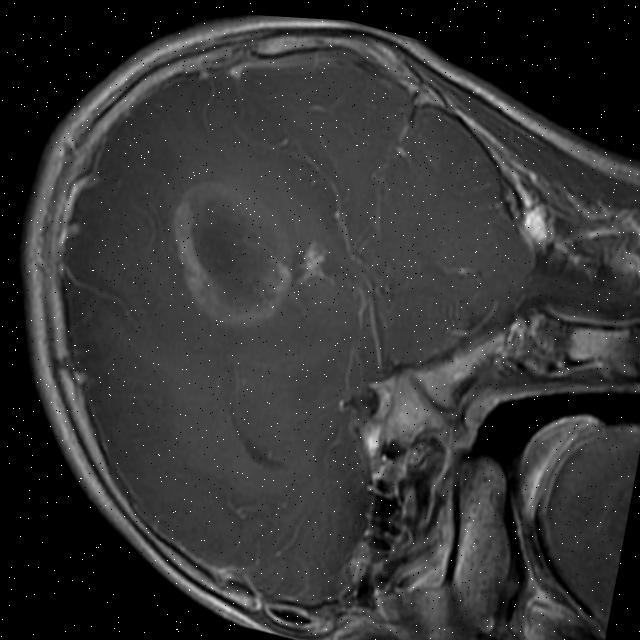Glioma: (151, 167, 312, 342)
